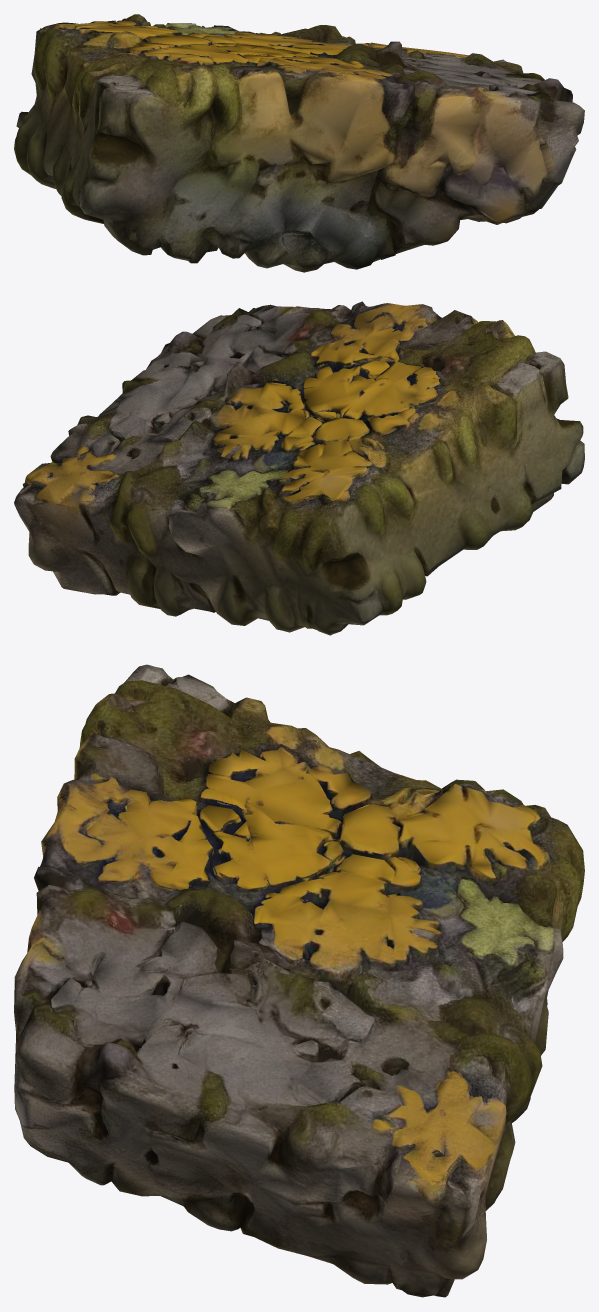
File: rock_lichen2.glb
3 renders of one model, top to bottom at view 1: azimuth 30°, elevation 25°; view 2: azimuth 150°, elevation 25°; view 3: azimuth 270°, elevation 25°, orthographic. The views are drawn at different scales.
Visible parts, largest first — view 1: tripo_node_6fa86850; view 2: tripo_node_6fa86850; view 3: tripo_node_6fa86850.
Boxes of the visible parts, x1=… form: tripo_node_6fa86850: x1=14, y1=14, x2=584, y2=272; tripo_node_6fa86850: x1=14, y1=301, x2=584, y2=635; tripo_node_6fa86850: x1=14, y1=664, x2=584, y2=1297.
Size of the model in its own units: 0.998 by 0.5418 by 0.7432.
1 material, 1 textured.
